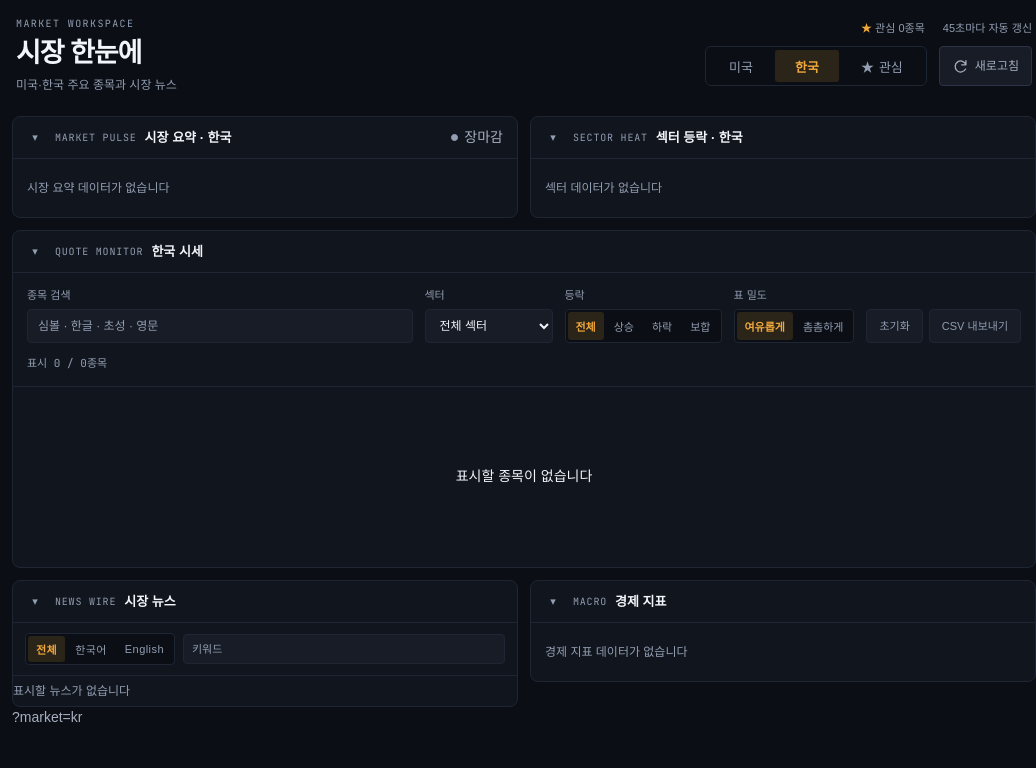
it: URL의 시장을 복원하고 전체 워크스페이스의 선택을 바꾼다 / restores and updates the market in the URL
This screenshot has width=1036, height=768.
Check: the heading "시장 한눈에" is shown, box x1=16 y1=38 x2=141 y2=68
Check: the heading "한국 시세" is shown, box x1=151 y1=242 x2=203 y2=261
Click the button "미국": (741, 66) x1=709 y1=50 x2=773 y2=82
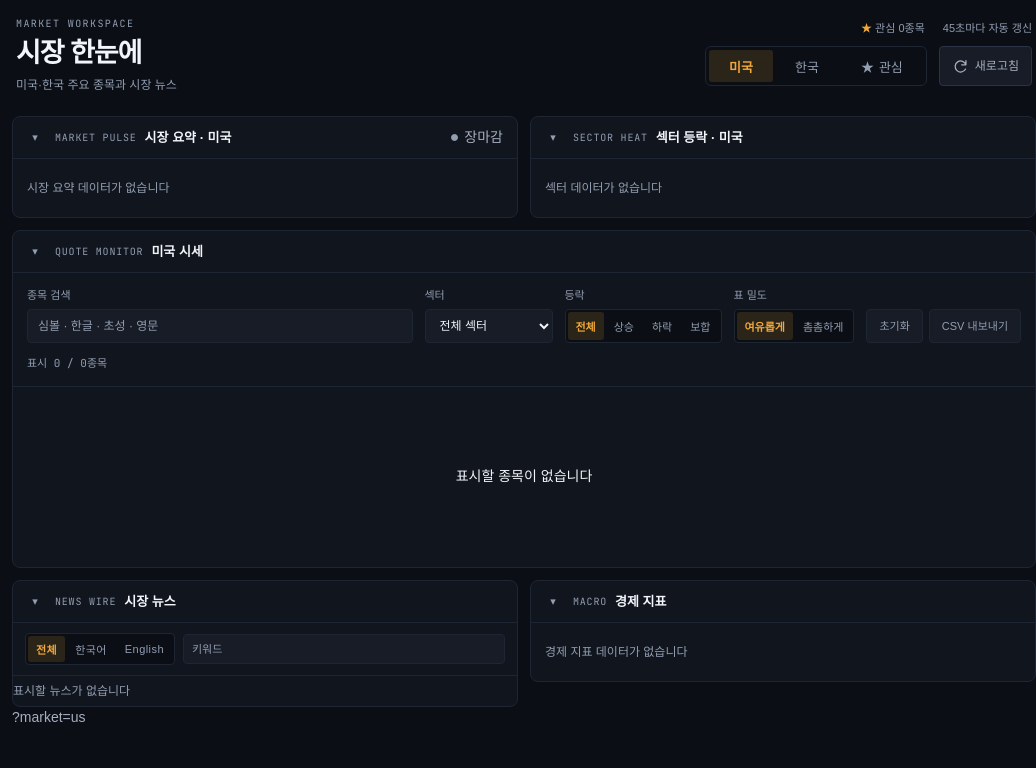
Check: the text named "현재 주소" shows "market=us", box x1=12 y1=709 x2=86 y2=725
